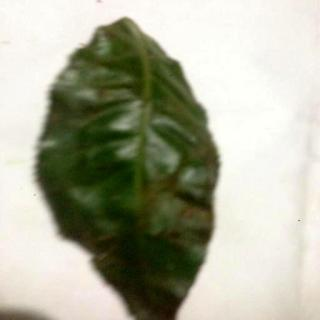Red Leaf Spot: (38, 19, 218, 320)
